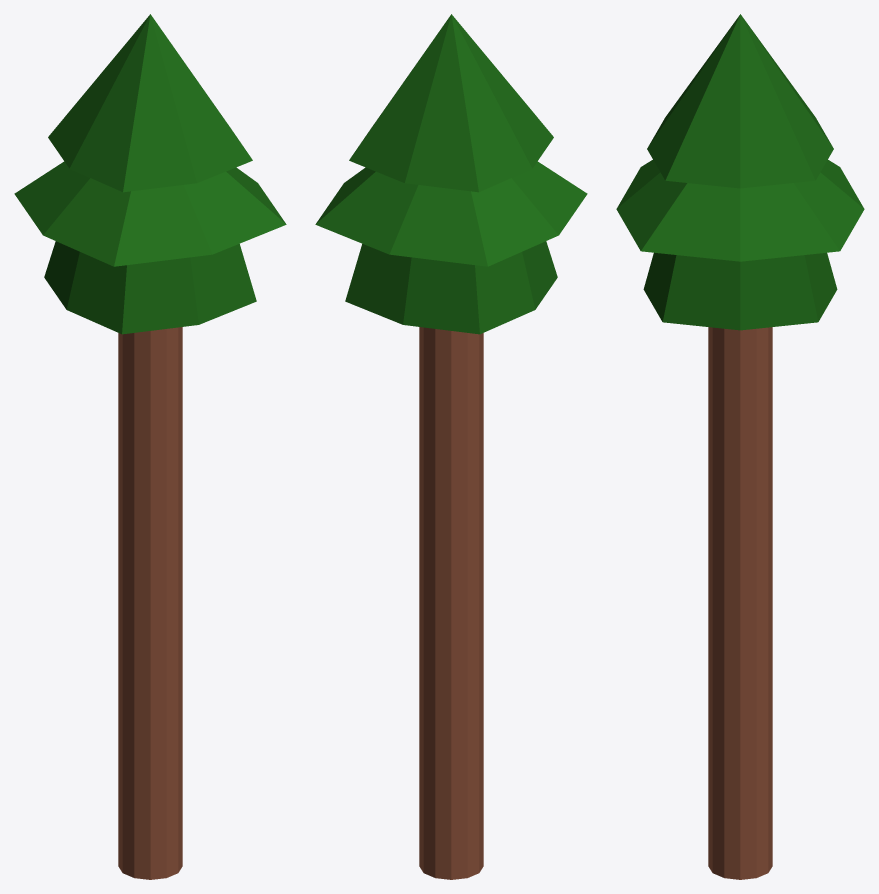
Rendered from tree3.gltf.
3 views of the same model, side by side, from view 1: azimuth 30°, elevation 25°; view 2: azimuth 150°, elevation 25°; view 3: azimuth 270°, elevation 25° (orthographic).
Visible parts, largest first — view 1: Tree_20_autumn_mat; view 2: Tree_20_autumn_mat; view 3: Tree_20_autumn_mat.
Part boxes in pixels (x1,y1,x2,y2): Tree_20_autumn_mat: (14, 14, 286, 879); Tree_20_autumn_mat: (315, 14, 587, 879); Tree_20_autumn_mat: (616, 14, 864, 879).
Bounding box in the file's own units: 3.42 × 12.97 × 3.42.
